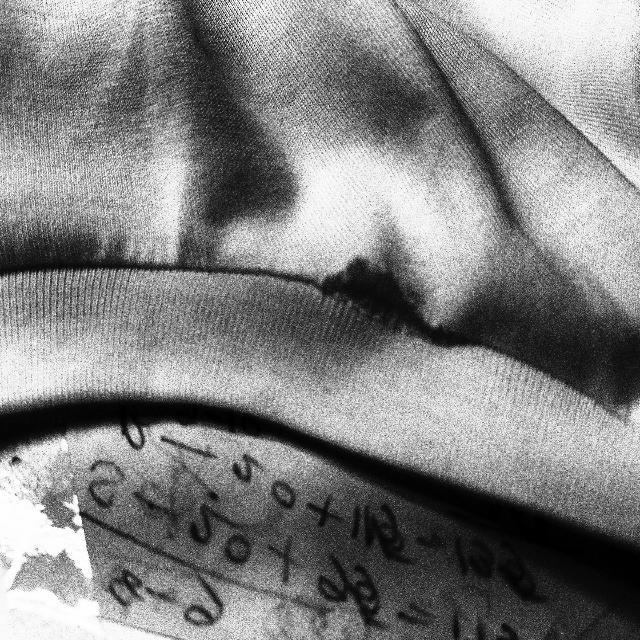Hole: (314, 250, 484, 358)
